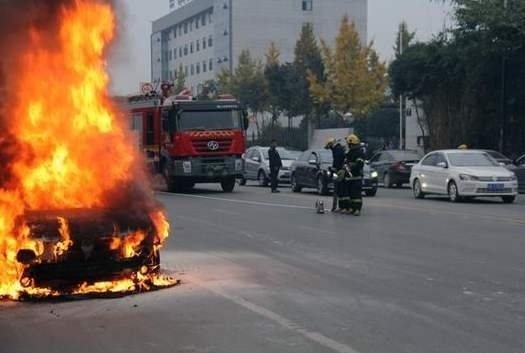fire: (2, 1, 181, 309)
